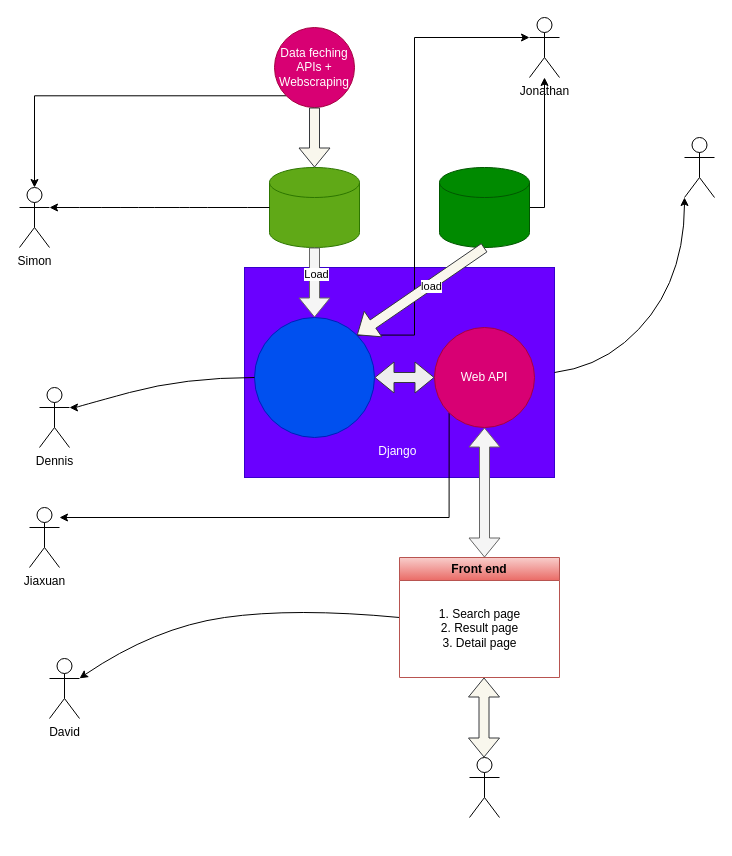
Some shapes in this 732 by 856 pixel diagram are drawn without their labels. The centre of each missing label's shape, as x and y in pixels:
"Adam" belongs at point 699,167.
"Elastic Search" belongs at point 314,377.
"Fake data" belongs at point 484,207.
"Real data" belongs at point 314,207.
"Users" belongs at point 484,787.
